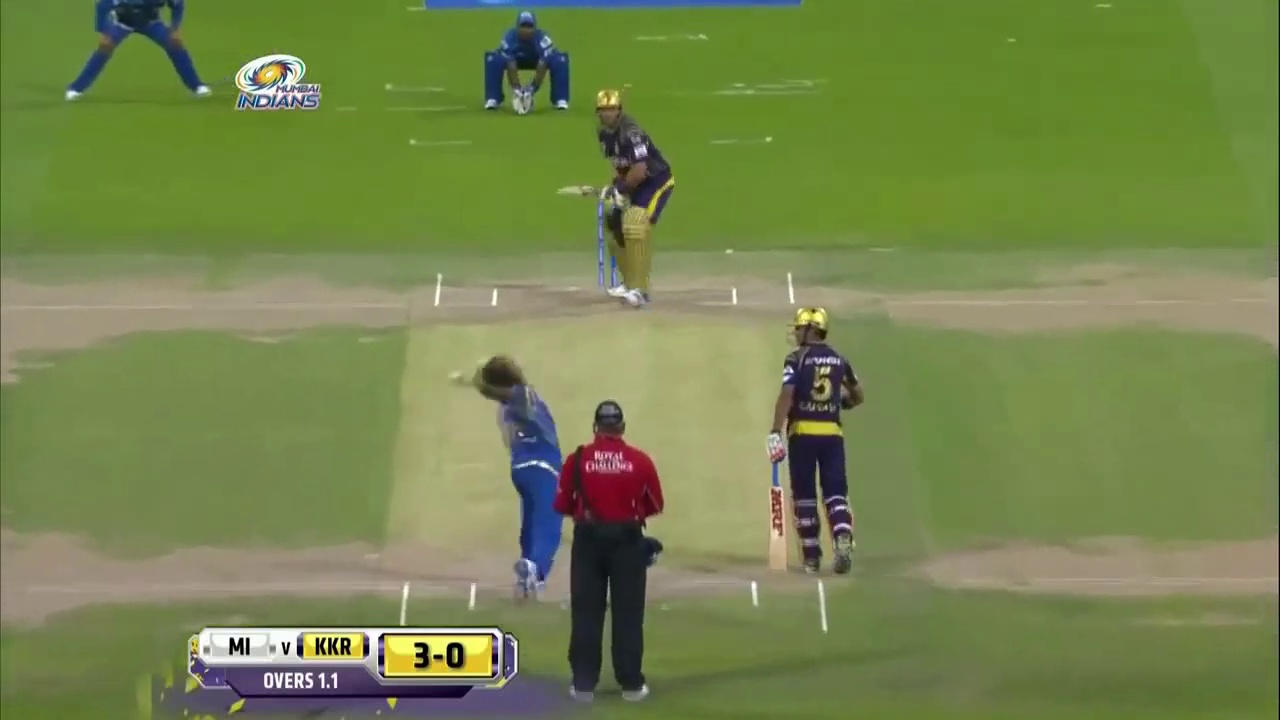bat: (767, 462, 790, 571)
